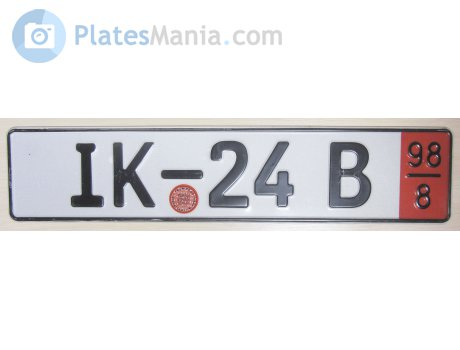License Plates: (41, 131, 396, 211)
